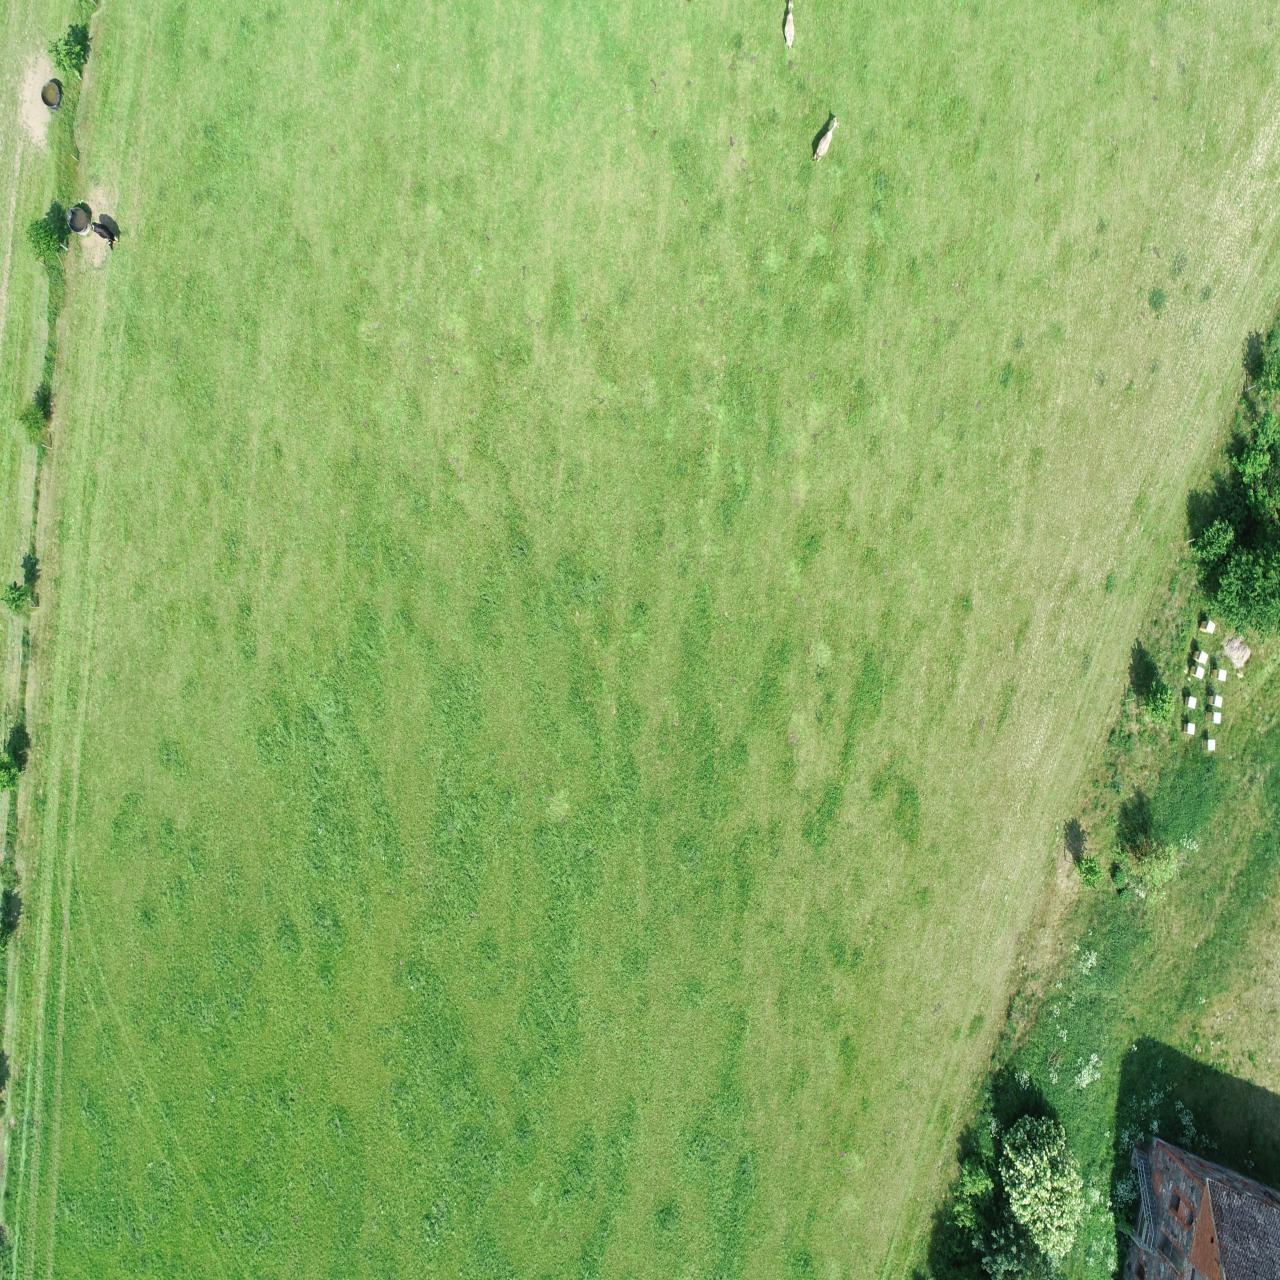cow: (809, 114, 845, 166), (88, 216, 120, 253), (779, 0, 798, 50)
